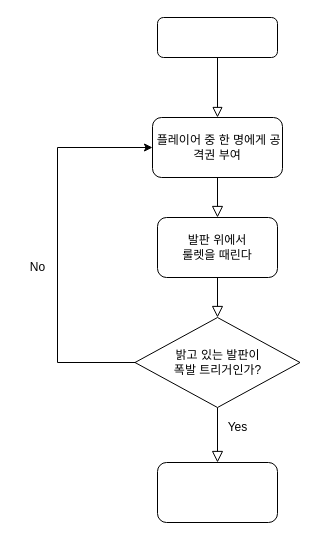
This 317x540 diagram has some shape labels left out. Each missing label, with the box of its shape:
게임시작: (156, 16, 278, 58)
룰렛 게임 종료: (156, 462, 278, 522)
